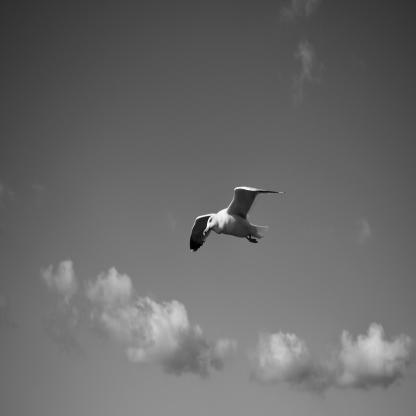bird: (189, 185, 288, 253)
